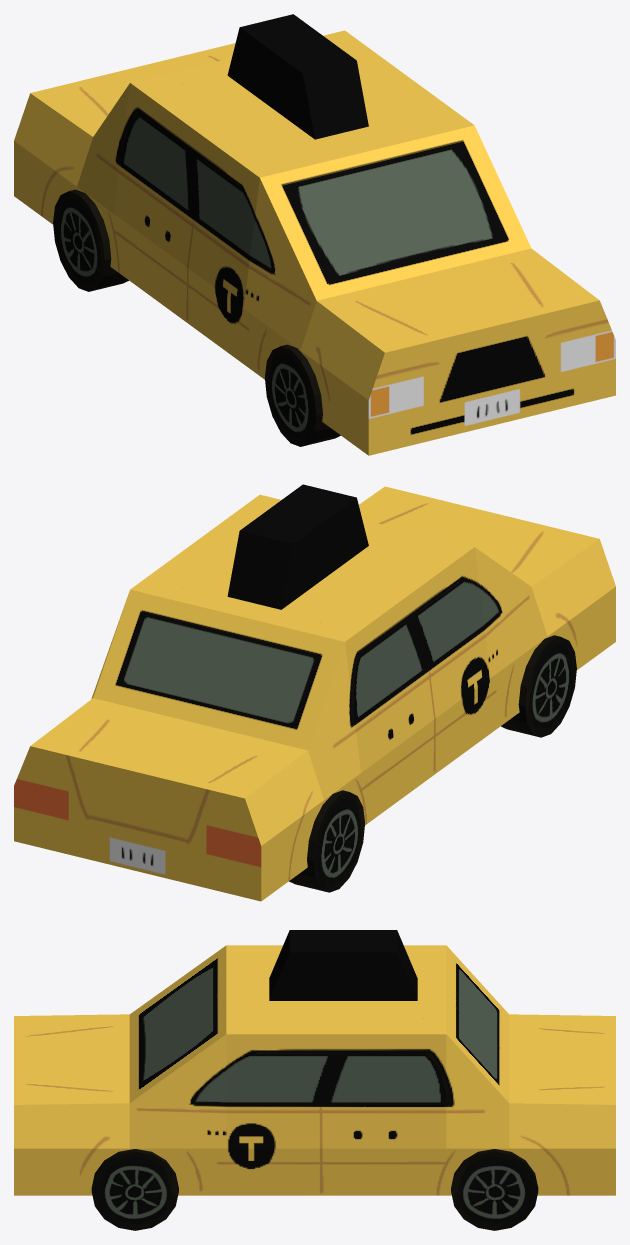
File: car_taxi_v1.fbx
3 views of the same model, one above another, from view 1: azimuth 30°, elevation 25°; view 2: azimuth 150°, elevation 25°; view 3: azimuth 270°, elevation 25° (orthographic). The views are drawn at different scales.
Visible parts, largest first — view 1: Body, Taxi Sign, Wheels; view 2: Body, Taxi Sign, Wheels; view 3: Body, Wheels, Taxi Sign.
Part boxes in pixels (box(x1,y1,x2,y2)): Body: box(14, 30, 615, 455); Taxi Sign: box(227, 14, 368, 139); Wheels: box(53, 189, 340, 446); Body: box(14, 486, 615, 901); Taxi Sign: box(227, 484, 368, 609); Wheels: box(289, 635, 576, 892); Body: box(14, 945, 615, 1195); Wheels: box(91, 1149, 538, 1230); Taxi Sign: box(269, 930, 417, 1000).
Bounding box in the file's own units: 222 × 226 × 523.
Materials: 2 (1 with a texture image).
